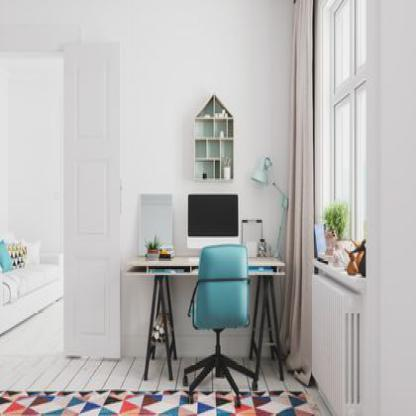chair: (174, 239, 265, 404)
door: (62, 24, 127, 368)
light: (250, 155, 296, 218)
sofa: (0, 214, 60, 354)
table: (127, 254, 289, 387)
